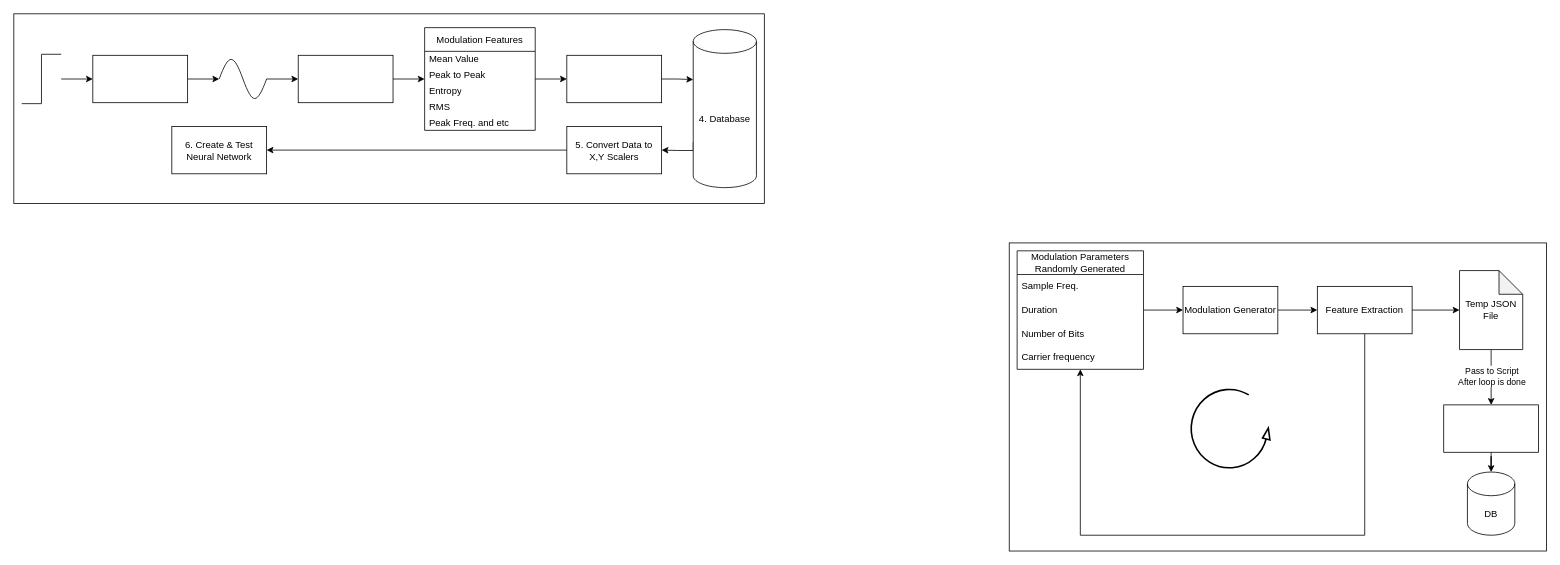
This 1560x565 diagram has some shape labels left out. The shapes that lost their labels are listed below. From the top down, each one's centre as x and y in pixels, then its label:
the point at 140,79: 1. Modulation Generator
the point at 345,79: 2. Feature Extraction
the point at 614,79: 3. Data Generator
the point at 1230,428: Loop
the point at 1491,428: Store in DB Script
